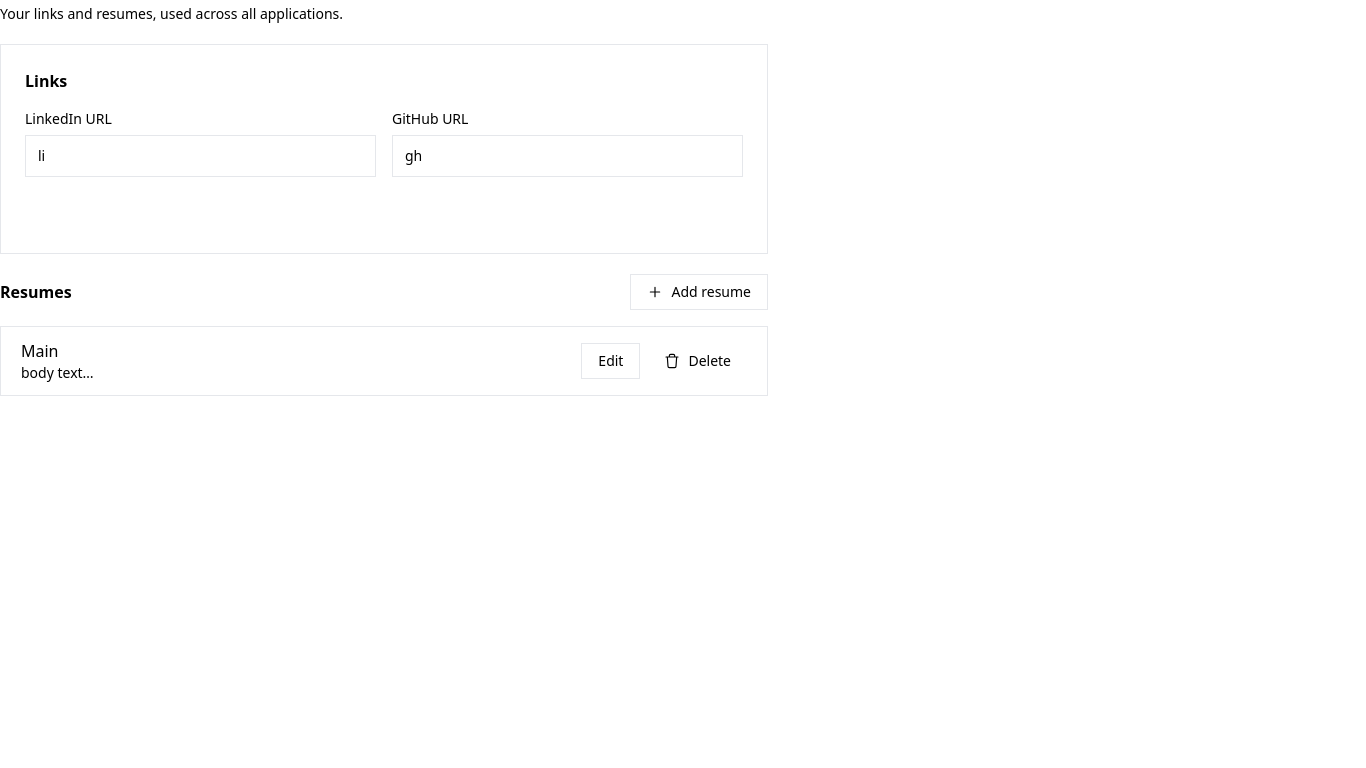
Scenario: Profile › cancels adding a resume
The width and height of the screenshot is (1366, 768).
Expected: the field labelled "LinkedIn URL" is shown, [25,135,376,177]
Click the button "Add resume": click(699, 292) [630,274,768,310]
(page scrolled)
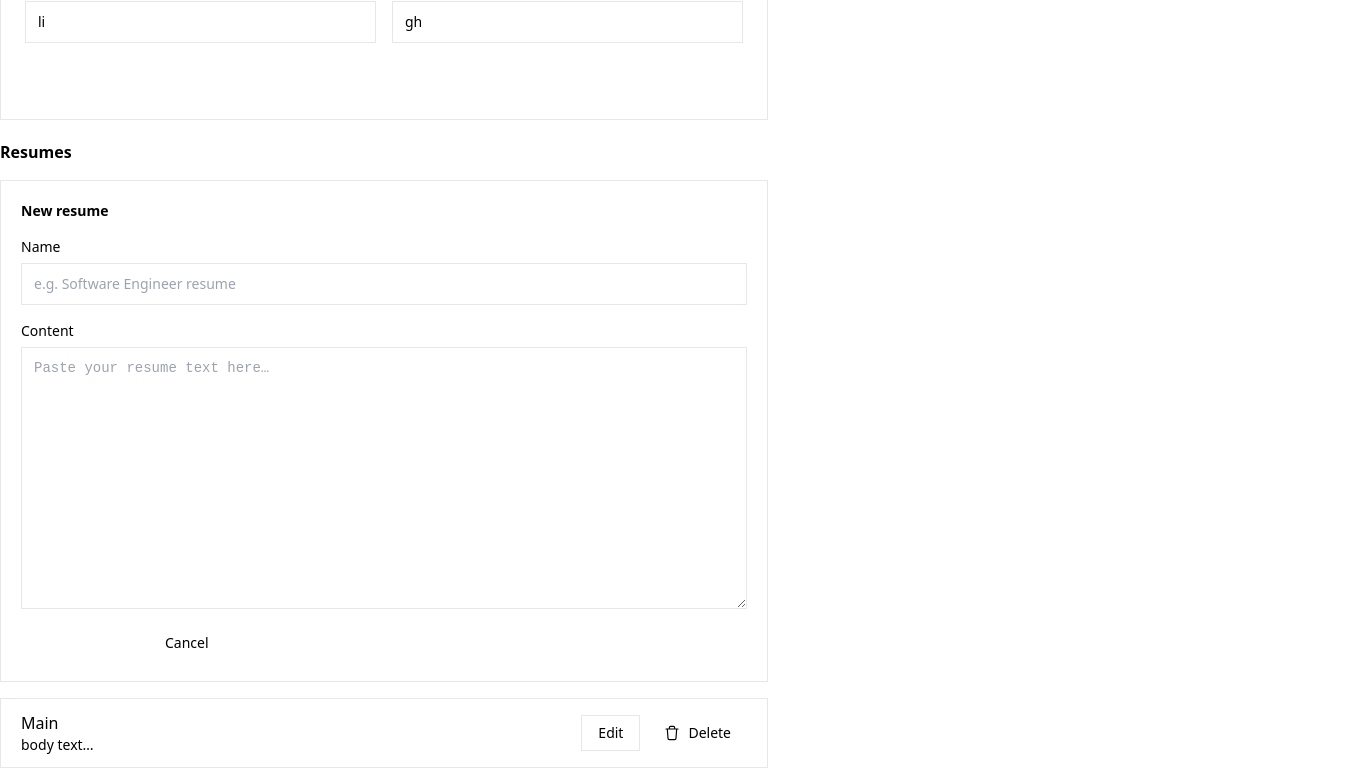
Click the button "Cancel": click(187, 643) [149,625,224,661]
(page scrolled)
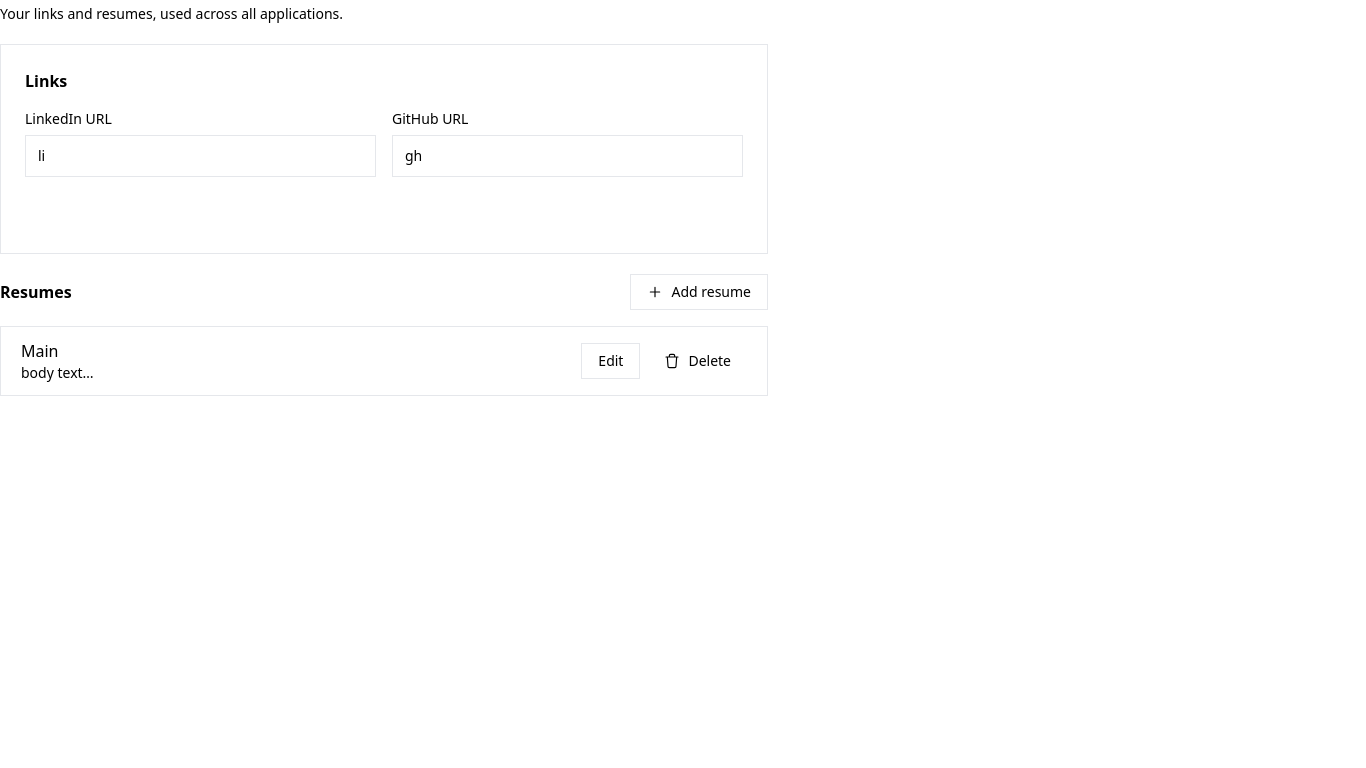
Now the heading "New resume" is gone
